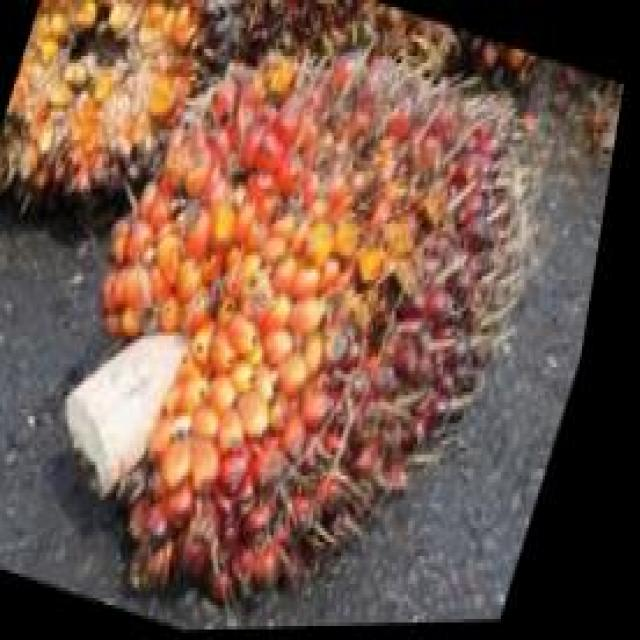Ripefruit: (28, 0, 598, 637)
